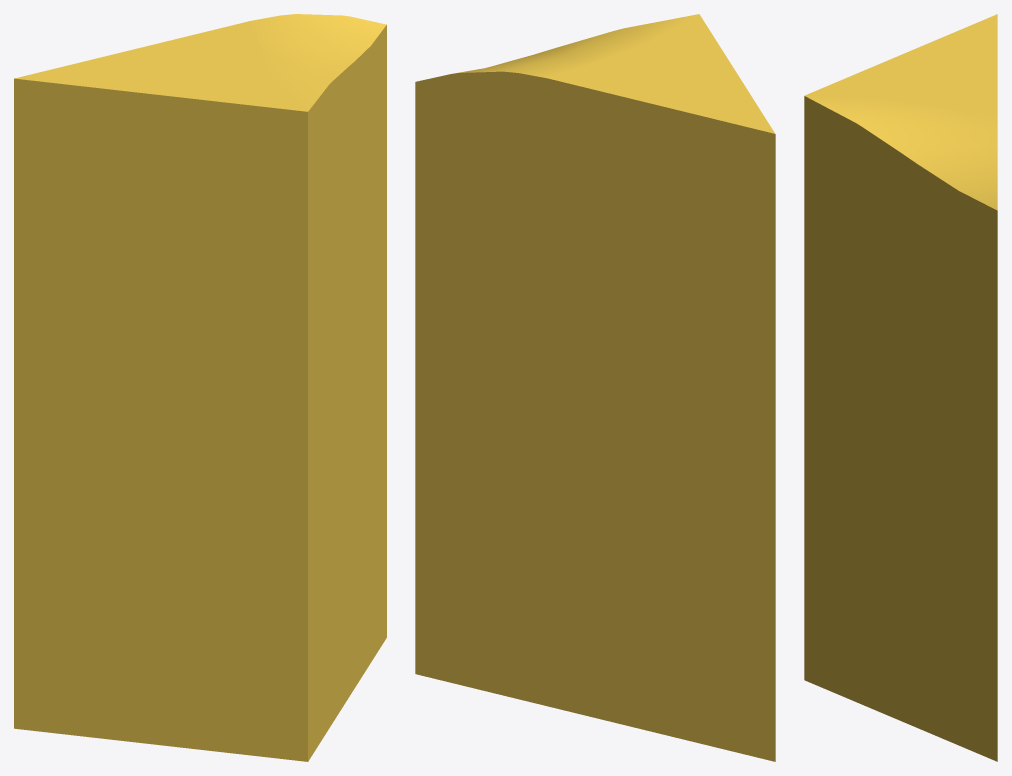
Rendered from Corner_CounterConcave.obj.
The picture shows the model from 3 angles, left to right: view 1: azimuth 30°, elevation 25°; view 2: azimuth 150°, elevation 25°; view 3: azimuth 270°, elevation 25°; orthographic projection. The views are drawn at different scales.
Visible parts, largest first — view 1: Corner_CounterConcave; view 2: Corner_CounterConcave; view 3: Corner_CounterConcave.
Boxes of the visible parts, left/top/right/bottom form: Corner_CounterConcave: left=14, top=14, right=386, bottom=761; Corner_CounterConcave: left=415, top=14, right=775, bottom=761; Corner_CounterConcave: left=804, top=14, right=997, bottom=761.
Bounding box in the file's own units: 0.3 × 0.5 × 0.15.
